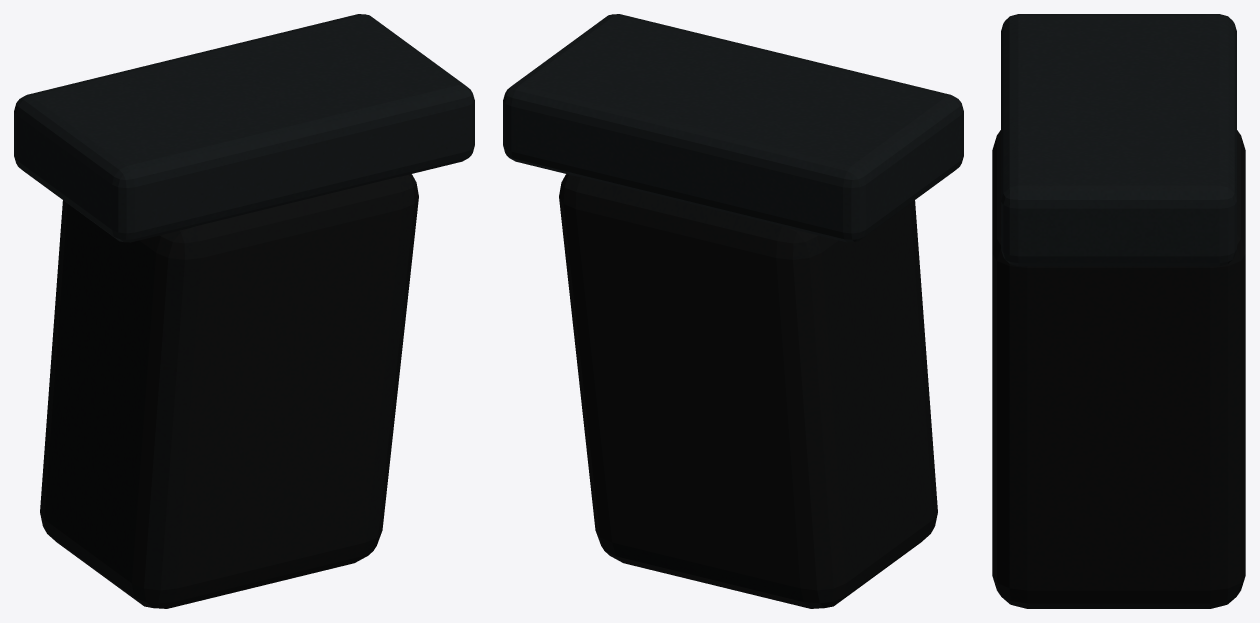
Rendered from shared.grip.stub.glb.
The picture shows the model from 3 angles, left to right: view 1: azimuth 30°, elevation 25°; view 2: azimuth 150°, elevation 25°; view 3: azimuth 270°, elevation 25°; orthographic projection. The views are drawn at different scales.
Parts seen in each view (by area): view 1: VIS_shared_grip_stub; view 2: VIS_shared_grip_stub; view 3: VIS_shared_grip_stub.
Boxes of the visible parts, x1=… form: VIS_shared_grip_stub: x1=14, y1=14, x2=474, y2=608; VIS_shared_grip_stub: x1=503, y1=14, x2=963, y2=608; VIS_shared_grip_stub: x1=992, y1=14, x2=1245, y2=608.
Size of the model in its own units: 0.05 by 0.06 by 0.029.
Materials: 2 (2 with a texture image).
